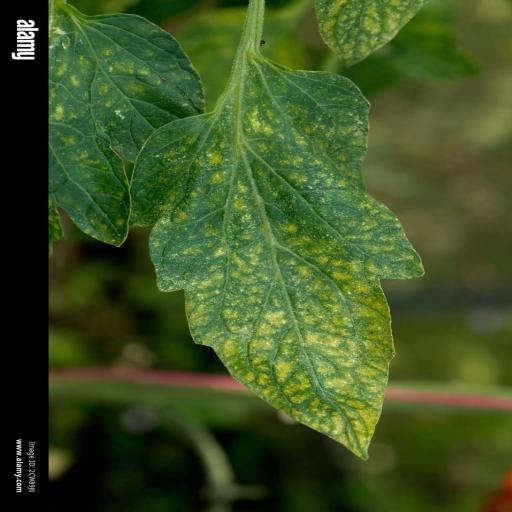disease_tomato: (126, 58, 432, 462)
